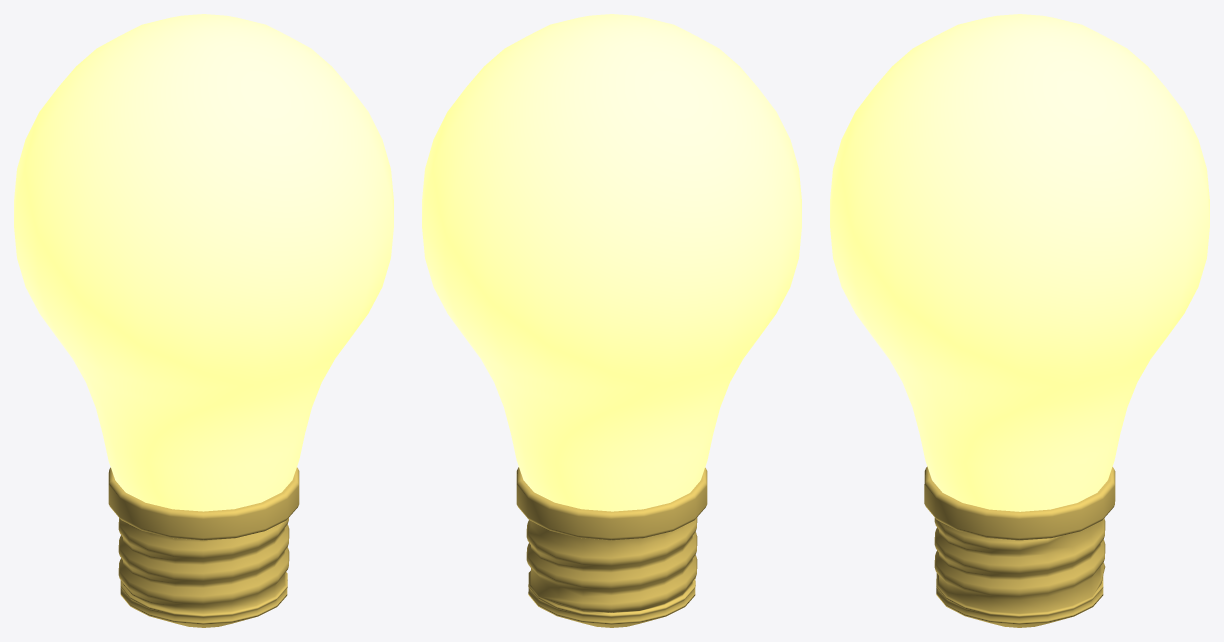
File: Lightbulb.glb
The picture shows the model from 3 angles, left to right: view 1: azimuth 30°, elevation 25°; view 2: azimuth 150°, elevation 25°; view 3: azimuth 270°, elevation 25°; orthographic projection.
Parts seen in each view (by area): view 1: Lightbulb; view 2: Lightbulb; view 3: Lightbulb.
Part boxes in pixels (x1,y1,x2,y2): Lightbulb: [14, 14, 393, 627]; Lightbulb: [422, 14, 801, 627]; Lightbulb: [830, 14, 1209, 627].
Size of the model in its own units: 4.55 by 7.65 by 4.48.
1 material, 1 textured.
